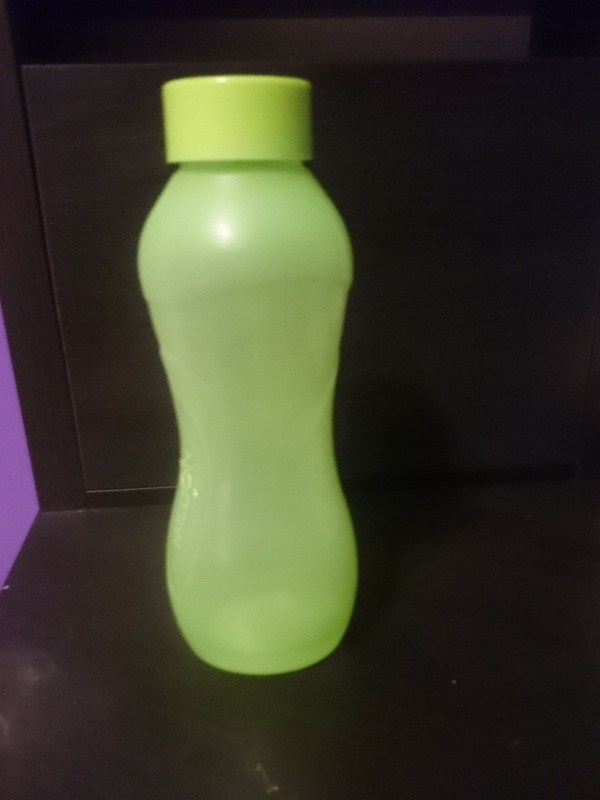my bottle: (138, 77, 353, 671)
